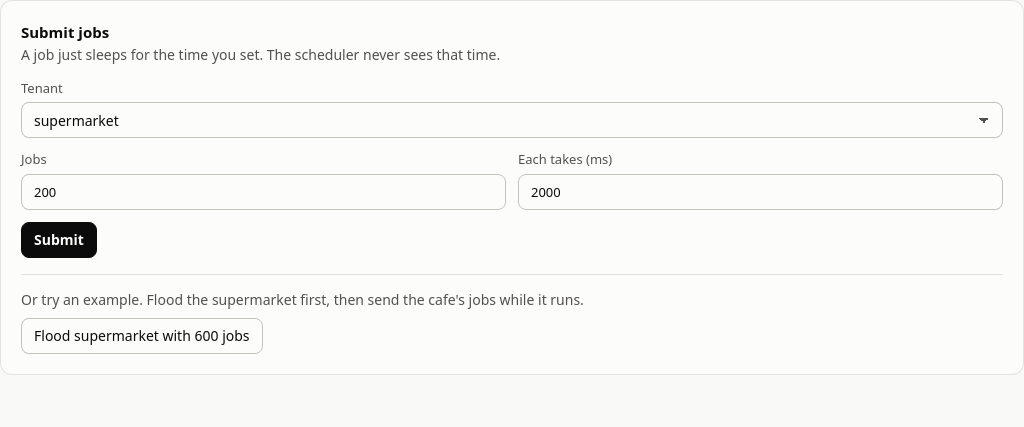
Test: the form that submits jobs › stops at the first refusal and says why
The width and height of the screenshot is (1024, 427).
Step 1. Click the dropdown named "Tenant" → (512, 120), box [21,102,1003,138]
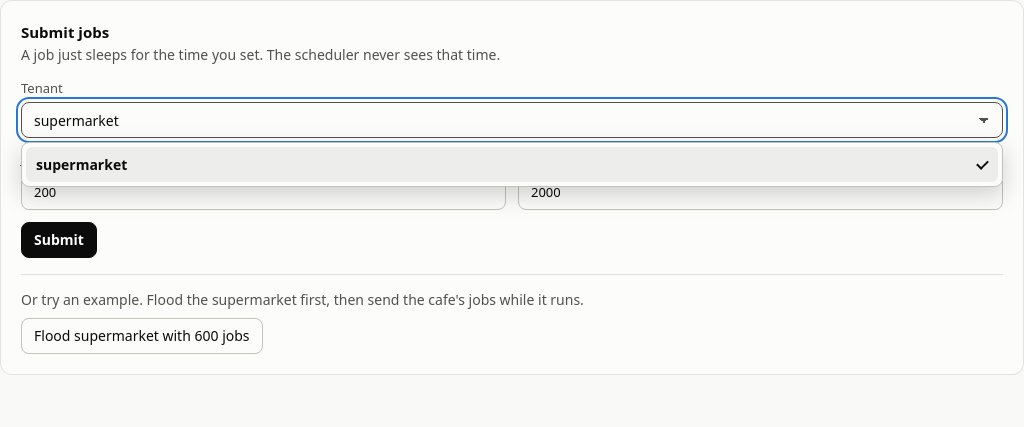
Step 2. Click the option "supermarket" → (82, 164), box [26,147,998,182]
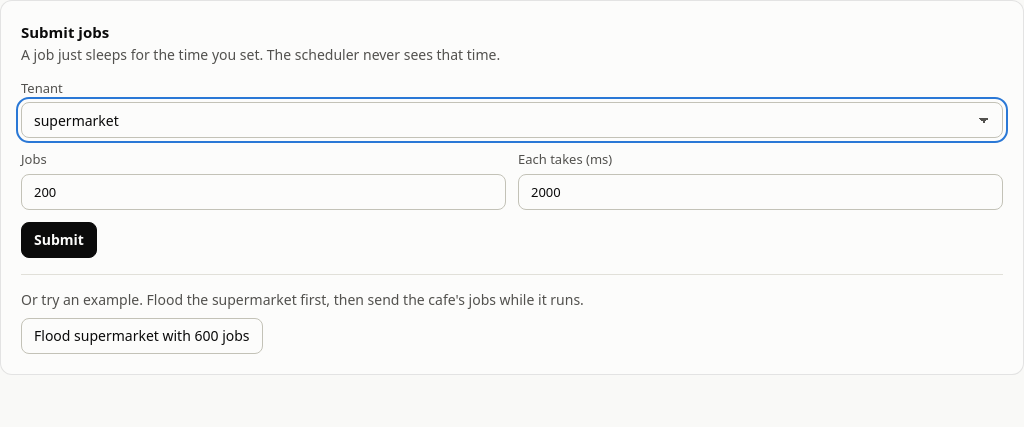
Step 3. Replace the text in the number field labelled "Jobs" with "500" → (264, 192), box [21,174,506,210]
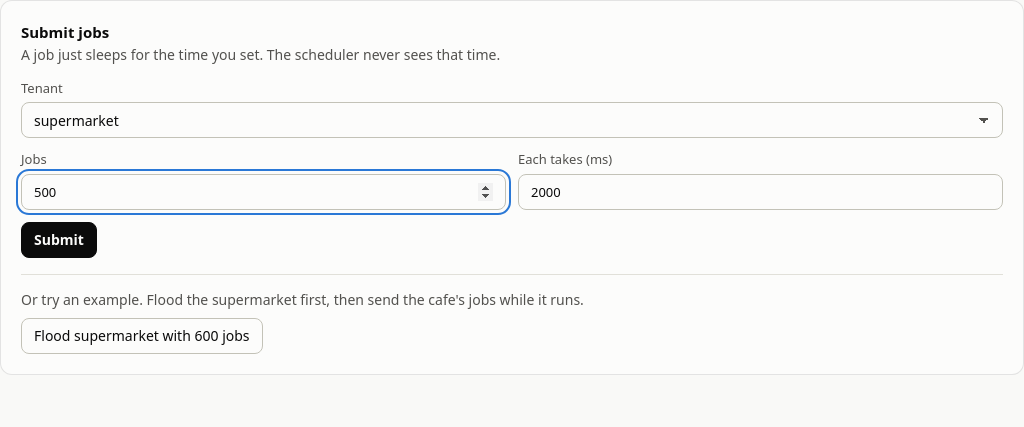
Step 4. Replace the text in the number field labelled "Each takes (ms)" with "100" → (760, 192), box [518,174,1003,210]
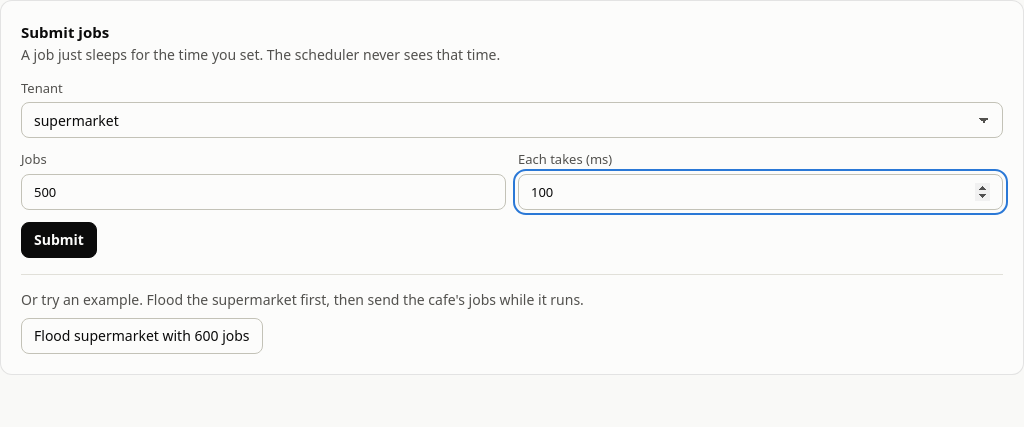
Step 5. Click the button "Submit" → (59, 240), box [21,222,97,258]
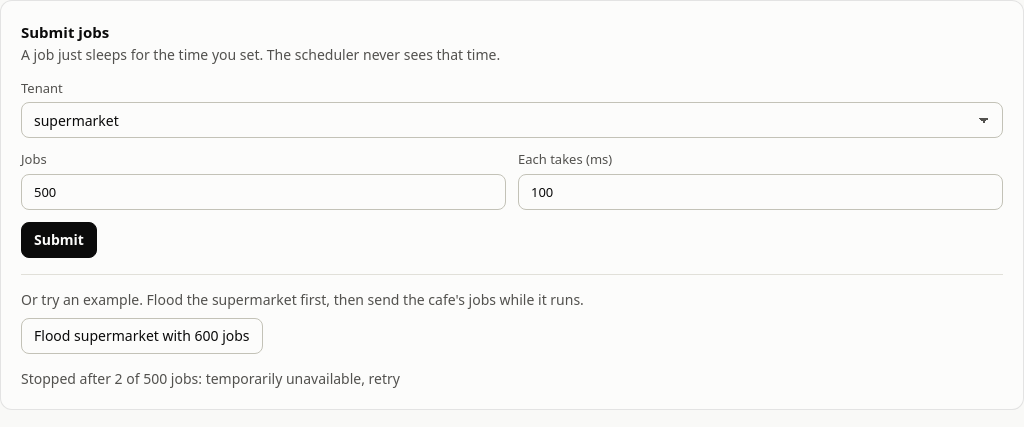
Expected: the text "Stopped after 2 of 500 jobs: temporarily unavailable, retry" is shown, [21,368,400,388]
